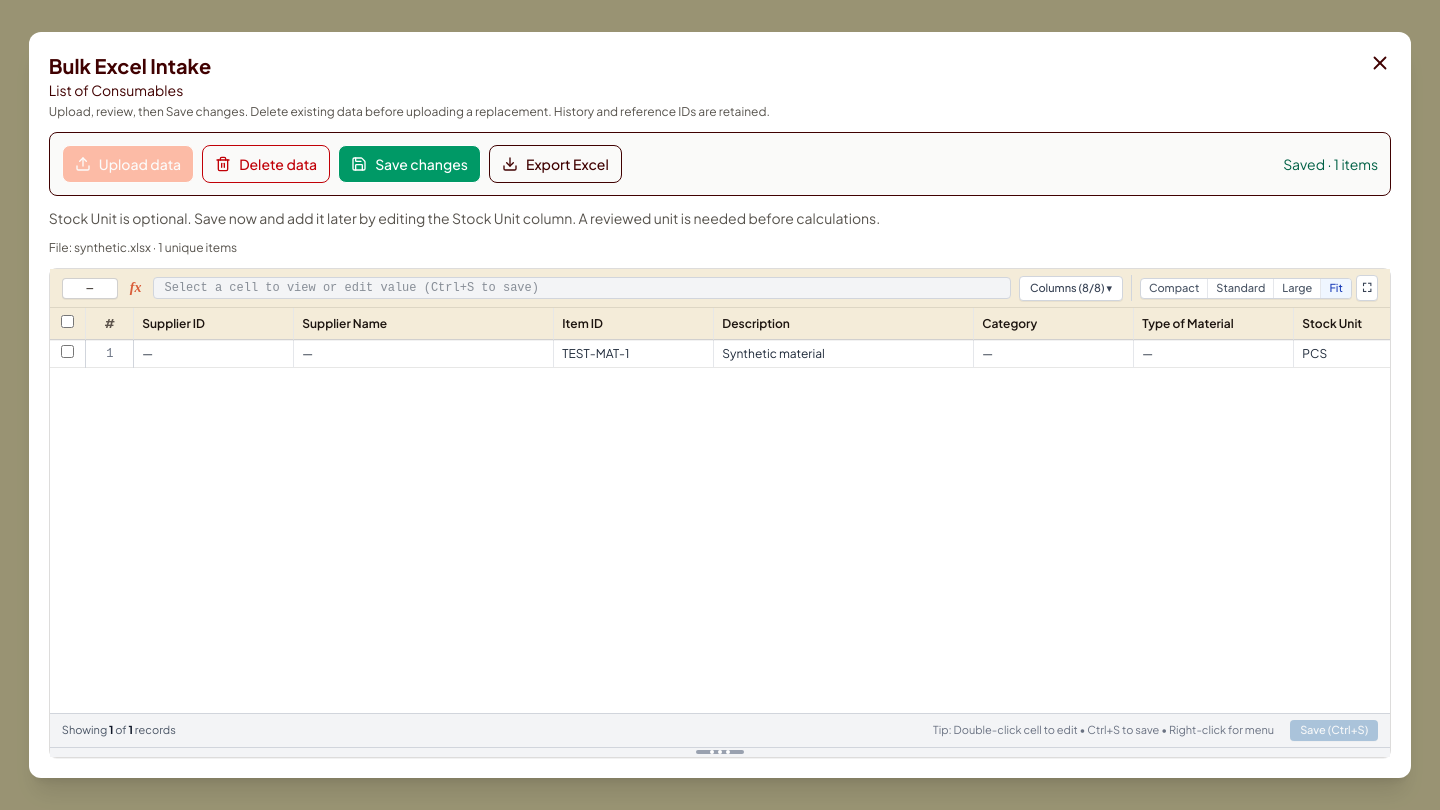
Test case: delete reviews the entire selected tab and enables replacement upload
This screenshot has width=1440, height=810.
Expected: the button "Upload data" is disabled, [62,145,194,183]
Click the button "Delete data" at (266, 164), box [202,145,330,183]
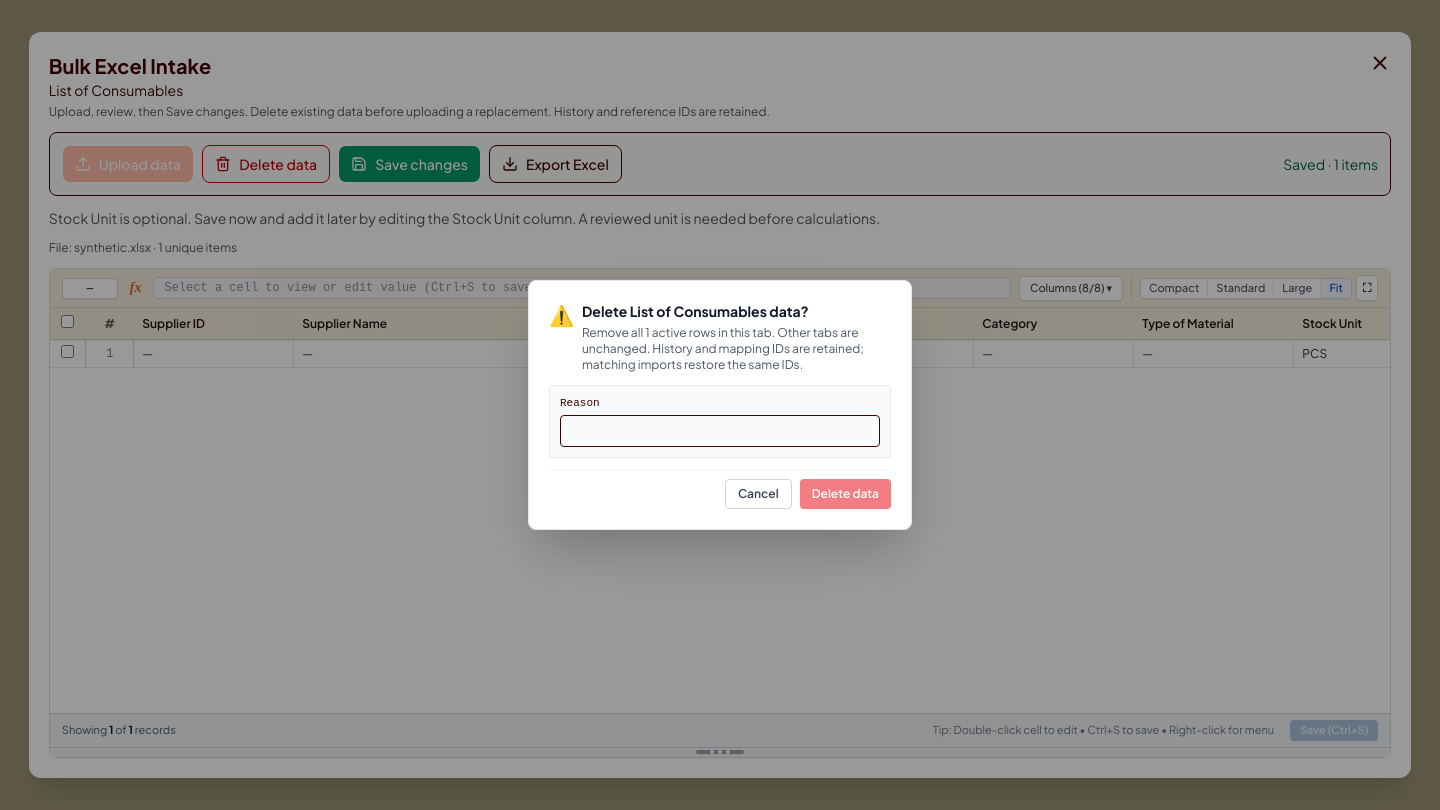
Result: the button "Delete data" is disabled at [800,479,891,509]
Type "Replace workbook" into the field named "Deletion reason" at (720, 431), box [560,414,880,447]
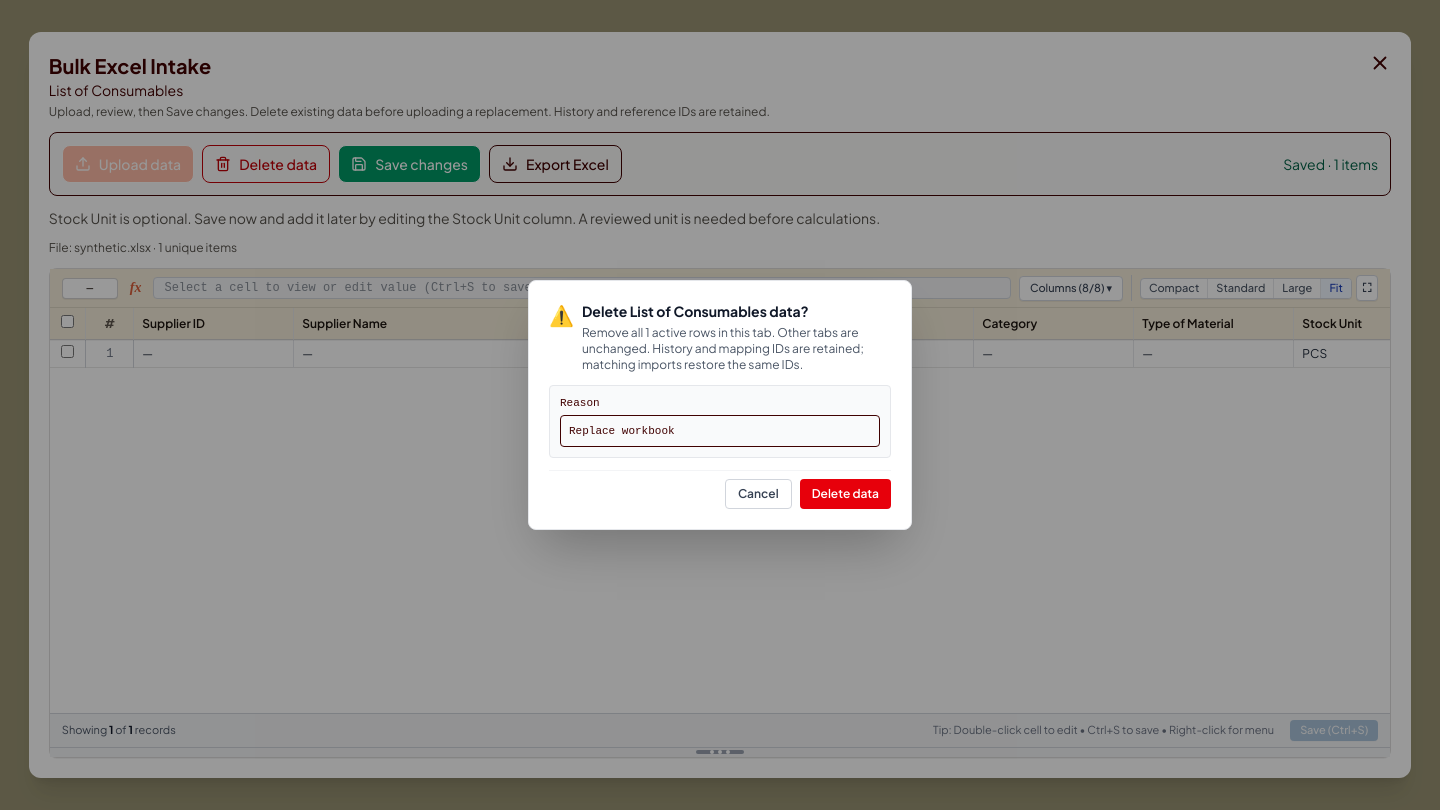
Click the button "Delete data" at (845, 494), box [800,479,891,509]
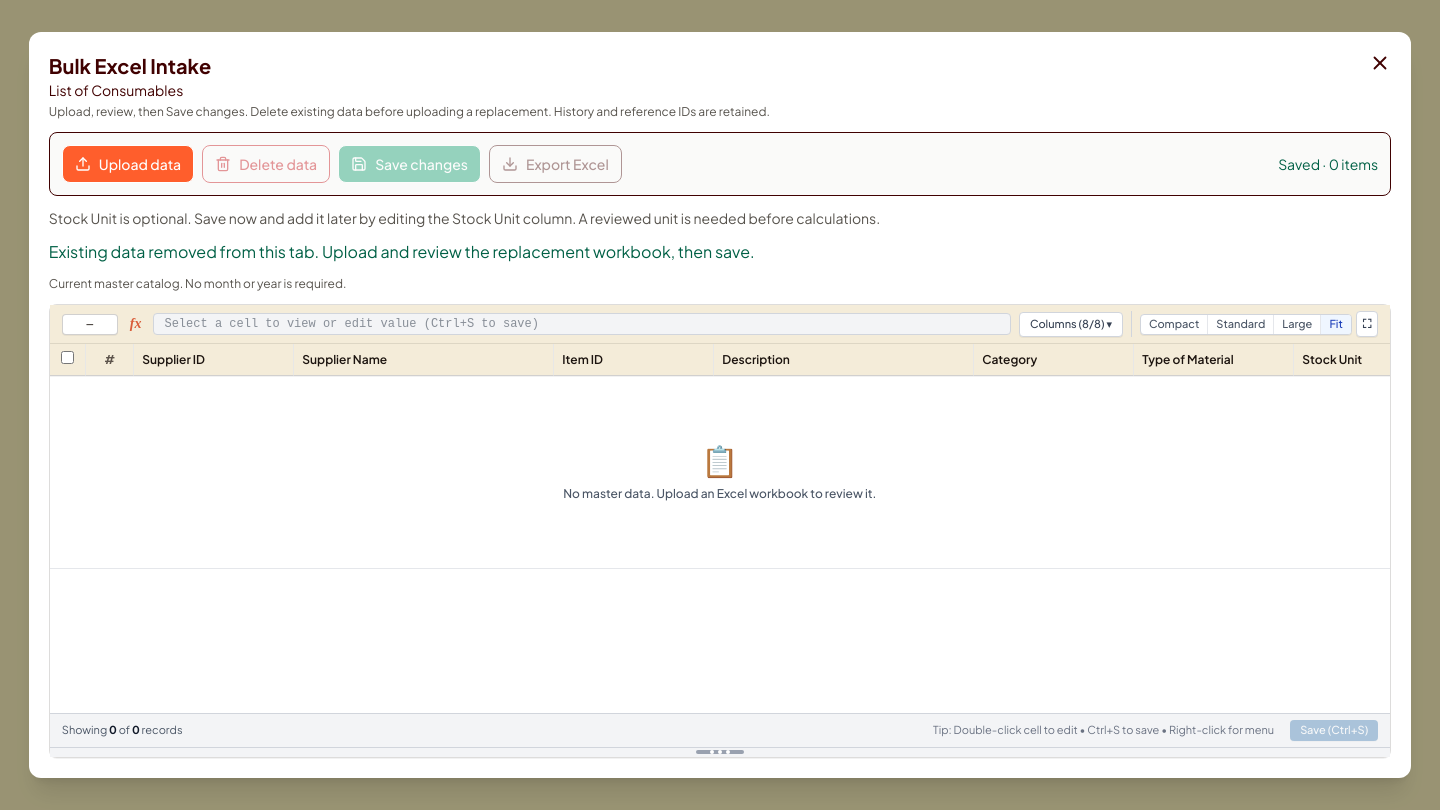
Result: the button "Upload data" is enabled at [62,145,194,183]
